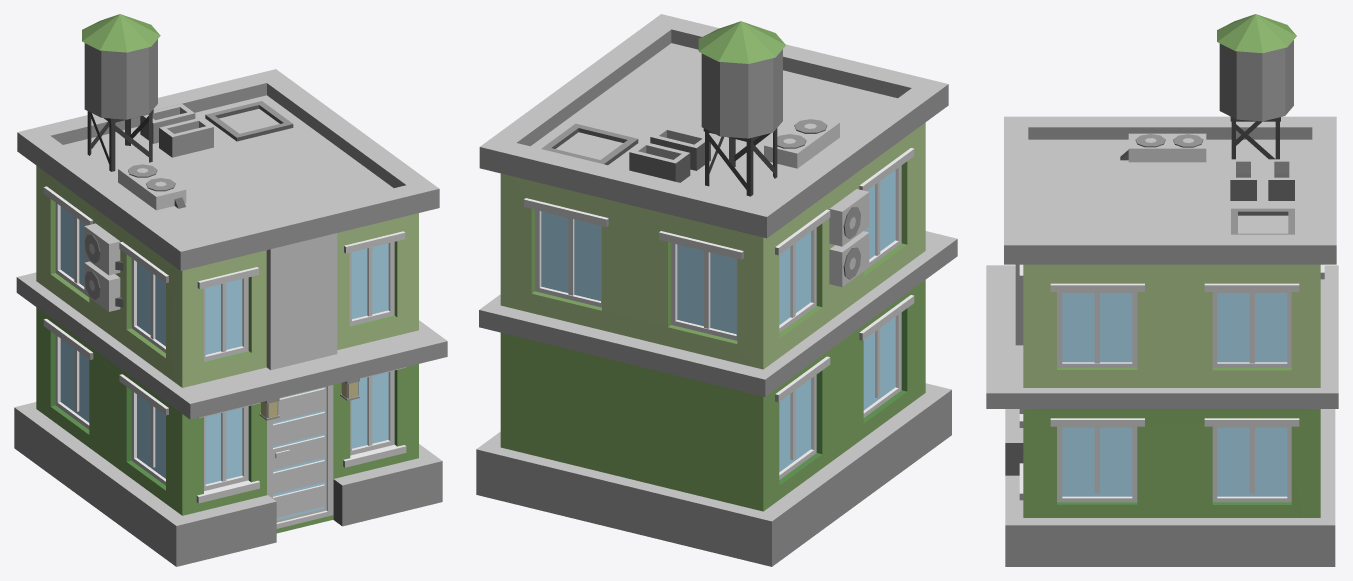
Rendered from house_small_1_004.glb.
The picture shows the model from 3 angles, left to right: view 1: azimuth 30°, elevation 25°; view 2: azimuth 150°, elevation 25°; view 3: azimuth 270°, elevation 25°; orthographic projection. The views are drawn at different scales.
Parts seen in each view (by area): view 1: house_small_1_004; view 2: house_small_1_004; view 3: house_small_1_004.
Boxes of the visible parts, x1,y1,x2,y2 form: house_small_1_004: (14,14,447,566); house_small_1_004: (476,14,957,566); house_small_1_004: (986,14,1338,566).
Size of the model in its own units: 5.06 by 8.11 by 5.71.
1 material, 1 textured.
